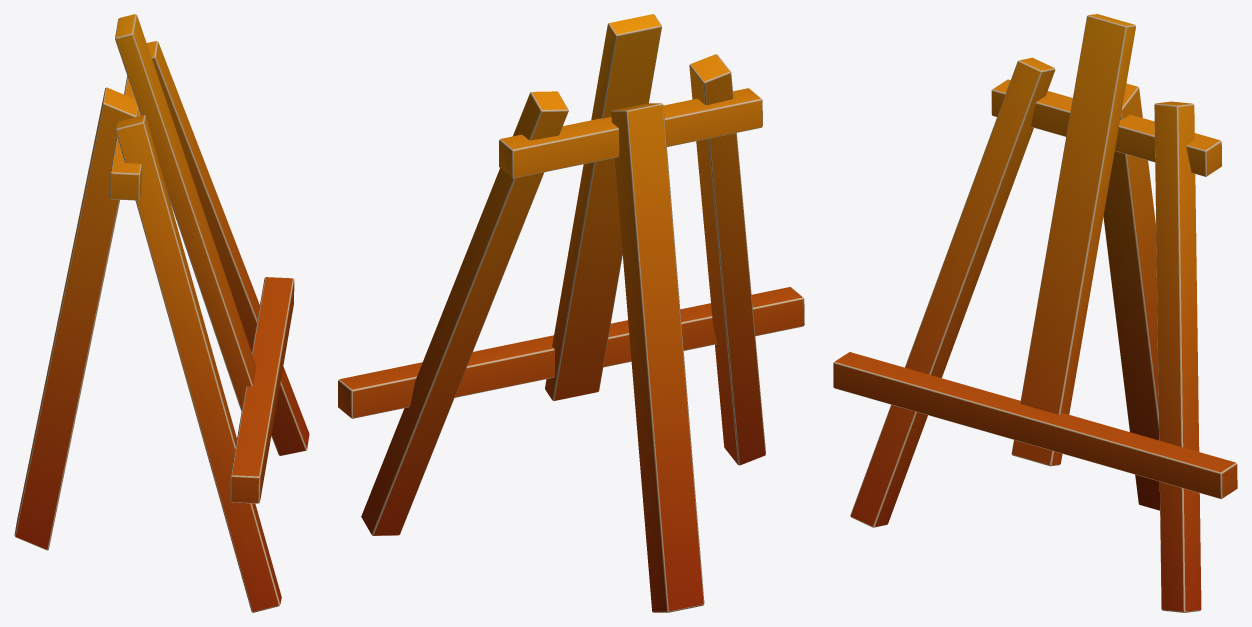
Rendered from artist-easel.glb.
3 views of the same model, side by side, from view 1: azimuth 30°, elevation 25°; view 2: azimuth 150°, elevation 25°; view 3: azimuth 270°, elevation 25° (orthographic). The views are drawn at different scales.
Parts seen in each view (by area): view 1: Object_14; view 2: Object_14; view 3: Object_14.
Boxes of the visible parts, left/top/right/bottom form: Object_14: left=14, top=14, right=309, bottom=612; Object_14: left=338, top=14, right=804, bottom=612; Object_14: left=833, top=14, right=1237, bottom=612.
Size of the model in its own units: 0.9917 by 1.59 by 1.12.
1 material, 1 textured.
